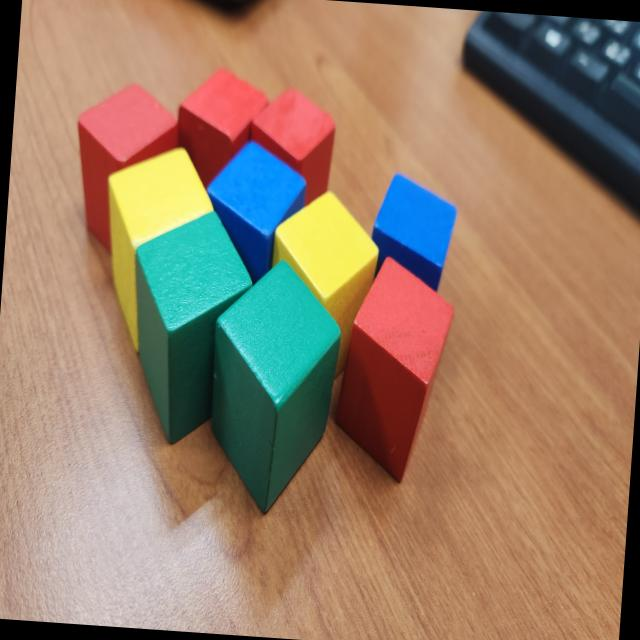blue: (199, 135, 311, 291), (366, 170, 459, 294)
green: (200, 255, 346, 518), (120, 206, 260, 449)
red: (326, 252, 461, 488), (68, 76, 186, 256), (170, 64, 270, 190), (245, 84, 339, 211)
yellow: (95, 141, 218, 359), (268, 187, 382, 354)
